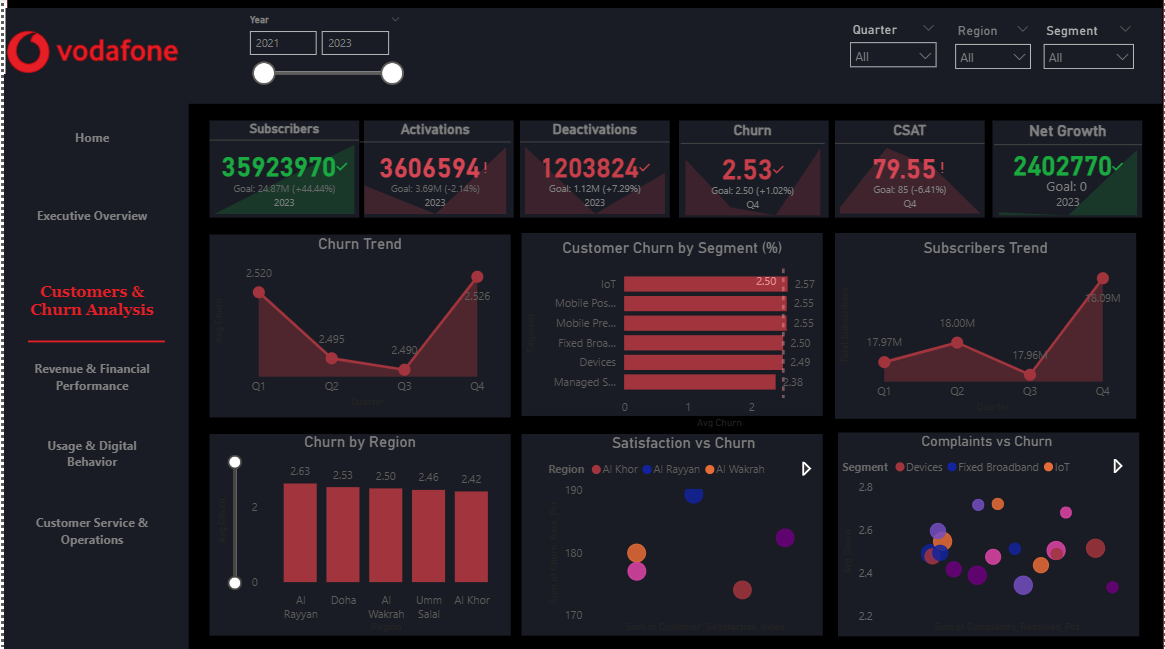

The dashboard page shown, as its layout file describes it:
{"tool":"powerbi","page":{"name":" Customers & Churn Analysis","canvas":[1280,720],"ordinal":2},"visuals":[{"type":"shape","box":[2.5,0,1277.5,720],"z":0},{"type":"shape","box":[1.9,9.4,1277.5,105.8],"z":1000},{"type":"shape","box":[0,82.4,203.9,637.3],"z":2000},{"type":"image","box":[0,0,204.1,119.1],"z":3000},{"type":"shape","box":[227.1,133.4,165.3,107.6],"z":4000},{"type":"kpi","title":"Subscribers ","fields":{"TrendLine":["Vodafone qatar dataset.Year"],"Goal":["Vodafone qatar dataset.Subscribers Target"],"Indicator":["Vodafone qatar dataset.Total Subscribers"]},"box":[227.1,133.4,165.3,107.6],"z":5000},{"type":"shape","box":[226.8,260.8,332.6,202.2],"z":10000},{"type":"slicer","fields":{"Values":["Vodafone qatar dataset.Year"]},"box":[258.9,12,191.2,85.6],"z":11000},{"type":"slicer","fields":{"Values":["Vodafone qatar dataset.Quarter"]},"box":[924.2,19.9,115.5,73.7],"z":12000},{"type":"slicer","fields":{"Values":["Vodafone qatar dataset.Region"]},"box":[1045.7,25.9,93.6,63.7],"z":13000},{"type":"slicer","fields":{"Values":["Vodafone qatar dataset.Segment"]},"box":[1143.3,25.9,109.5,63.7],"z":14000},{"type":"pageNavigator","box":[25.9,133.4,151.4,501.9],"z":15000},{"type":"shape","box":[570.7,258.9,332.6,202.2],"z":17000},{"type":"shape","box":[226.8,480,332.6,223],"z":18000},{"type":"shape","box":[570.7,480,332.6,223],"z":19000},{"type":"shape","box":[918.2,258.9,332.6,205.1],"z":20000},{"type":"shape","box":[920.2,478,332.6,225.1],"z":21000},{"type":"scatterChart","title":"Complaints vs Churn","fields":{"Category":["Vodafone qatar dataset.Year"],"X":["Sum(Vodafone qatar dataset.Complaints_Resolved_Pct)"],"Y":["Vodafone qatar dataset.Avg Churn"],"Size":["Sum(Vodafone qatar dataset.Subscribers)"],"Series":["Vodafone qatar dataset.Segment"]},"box":[920.2,478,328.6,225.1],"z":22000},{"type":"lineChart","title":"Churn Trend","fields":{"Category":["Vodafone qatar dataset.Quarter"],"Y":["Vodafone qatar dataset.Avg Churn"]},"box":[226.8,260.8,332.6,194.6],"z":23000},{"type":"clusteredBarChart","title":"Customer Churn by Segment (%)","fields":{"Category":["Vodafone qatar dataset.Segment"],"Y":["Vodafone qatar dataset.Avg Churn"]},"box":[571.6,264.9,332.6,213.1],"z":24000},{"type":"clusteredColumnChart","title":"Churn by Region","fields":{"Category":["Vodafone qatar dataset.Region"],"Y":["Vodafone qatar dataset.Avg Churn"]},"box":[226.8,478.1,332.6,224.9],"z":25000},{"type":"scatterChart","title":"Satisfaction vs Churn","fields":{"Y":["Sum(Vodafone qatar dataset.Churn_Rate_Pct)"],"X":["Sum(Vodafone qatar dataset.Customer_Satisfaction_Index)"],"Size":["Sum(Vodafone qatar dataset.Subscribers)"],"Series":["Vodafone qatar dataset.Region"]},"box":[595.5,480,308.7,223.1],"z":27000},{"type":"shape","box":[398.3,133.4,165.3,107.6],"z":28000},{"type":"lineChart","title":"Subscribers Trend","fields":{"Category":["Vodafone qatar dataset.Quarter"],"Y":["Vodafone qatar dataset.Total Subscribers"]},"box":[918.2,264.9,332.6,195.2],"z":29000},{"type":"shape","box":[569.6,133.4,165.3,107.6],"z":30000},{"type":"shape","box":[744.9,133.4,165.3,107.6],"z":31000},{"type":"shape","box":[918.2,133.4,165.3,107.6],"z":32000},{"type":"shape","box":[1091.5,133.4,165.3,107.6],"z":33000},{"type":"kpi","title":"Activations ","fields":{"TrendLine":["Vodafone qatar dataset.Year"],"Indicator":["Vodafone qatar dataset.Total Activations"],"Goal":["Vodafone qatar dataset.Activations Target"]},"box":[392.4,133.4,167.3,107.6],"z":33500},{"type":"kpi","title":"Deactivations","fields":{"TrendLine":["Vodafone qatar dataset.Year"],"Indicator":["Vodafone qatar dataset.Total Deactivations"],"Goal":["Vodafone qatar dataset.Deactivations Target"]},"box":[569.6,133.4,165.3,107.6],"z":34000},{"type":"kpi","title":"Churn","fields":{"Indicator":["Vodafone qatar dataset.Avg Churn"],"Goal":["Vodafone qatar dataset.Churn Target"],"TrendLine":["Vodafone qatar dataset.Quarter"]},"box":[746.9,135.4,159.3,107.6],"z":34500},{"type":"kpi","title":"CSAT","fields":{"Indicator":["Vodafone qatar dataset.Avg Satisfaction"],"TrendLine":["Vodafone qatar dataset.Quarter"],"Goal":["Vodafone qatar dataset.CSAT Target"]},"box":[918.2,135.4,165.3,105.6],"z":35000},{"type":"kpi","title":"Net Growth","fields":{"TrendLine":["Vodafone qatar dataset.Year"],"Indicator":["Vodafone qatar dataset.Net Growth"],"Goal":["Vodafone qatar dataset.Net Growth Target"]},"box":[1093.5,135.4,163.3,107.6],"z":35500}]}

Visuals, with their boxes on the page's 1280x720 design canvas (x1, y1, x2, y2). These are canvas units, not pixel positions in the 1165x649 screenshot, which may show the page scaled, cropped or inside an application window:
shape: <box>2,0,1280,720</box>
shape: <box>2,9,1279,115</box>
shape: <box>0,82,204,720</box>
image: <box>0,0,204,119</box>
shape: <box>227,133,392,241</box>
"Subscribers " kpi: <box>227,133,392,241</box>
shape: <box>227,261,559,463</box>
slicer - Vodafone qatar dataset.Year: <box>259,12,450,98</box>
slicer - Vodafone qatar dataset.Quarter: <box>924,20,1040,94</box>
slicer - Vodafone qatar dataset.Region: <box>1046,26,1139,90</box>
slicer - Vodafone qatar dataset.Segment: <box>1143,26,1253,90</box>
pageNavigator: <box>26,133,177,635</box>
shape: <box>571,259,903,461</box>
shape: <box>227,480,559,703</box>
shape: <box>571,480,903,703</box>
shape: <box>918,259,1251,464</box>
shape: <box>920,478,1253,703</box>
"Complaints vs Churn" scatterChart: <box>920,478,1249,703</box>
"Churn Trend" lineChart: <box>227,261,559,455</box>
"Customer Churn by Segment (%)" clusteredBarChart: <box>572,265,904,478</box>
"Churn by Region" clusteredColumnChart: <box>227,478,559,703</box>
"Satisfaction vs Churn" scatterChart: <box>596,480,904,703</box>
shape: <box>398,133,564,241</box>
"Subscribers Trend" lineChart: <box>918,265,1251,460</box>
shape: <box>570,133,735,241</box>
shape: <box>745,133,910,241</box>
shape: <box>918,133,1084,241</box>
shape: <box>1092,133,1257,241</box>
"Activations " kpi: <box>392,133,560,241</box>
"Deactivations" kpi: <box>570,133,735,241</box>
"Churn" kpi: <box>747,135,906,243</box>
"CSAT" kpi: <box>918,135,1084,241</box>
"Net Growth" kpi: <box>1094,135,1257,243</box>
